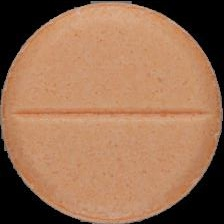54868-2570: (0, 0, 224, 224)
